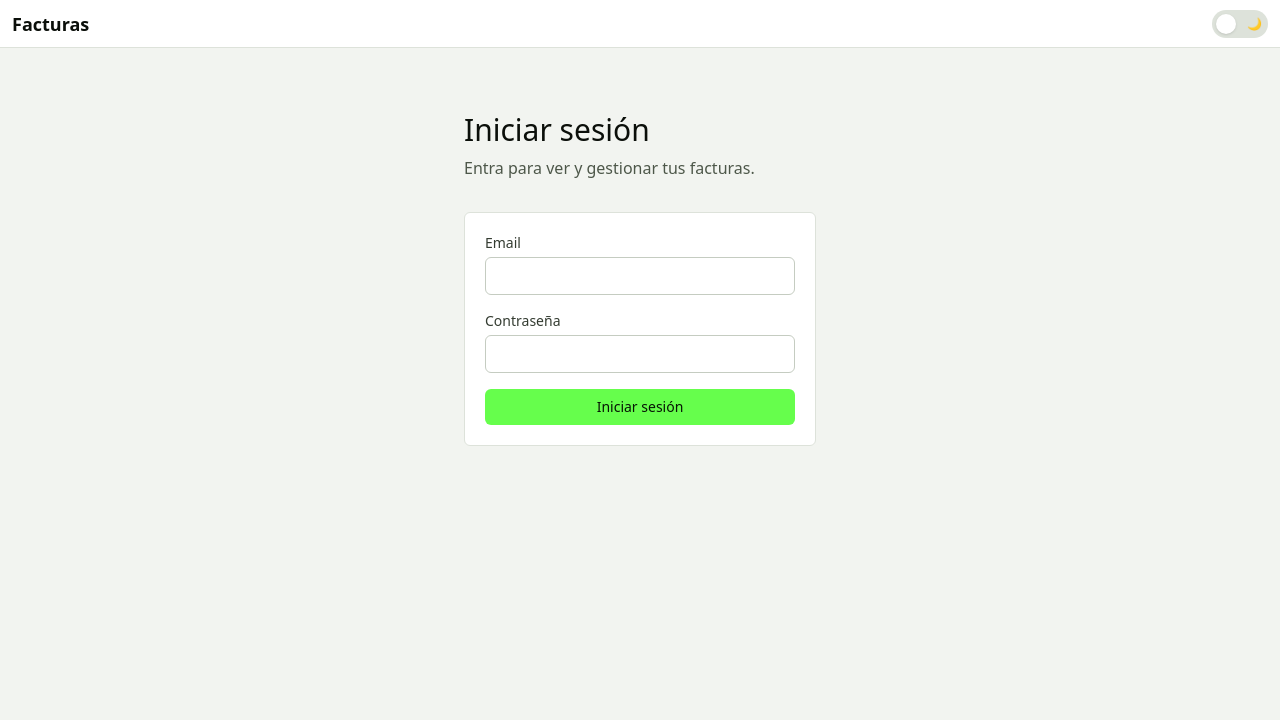
router: sesión › iniciar sesión vuelve a la ruta que se pedía
Expected: the heading "Iniciar sesión" is shown, [464,109,650,150]
Step 1. Type "ana@example.com" into the field labelled "Email" → point(640, 276), box [485,257,795,295]
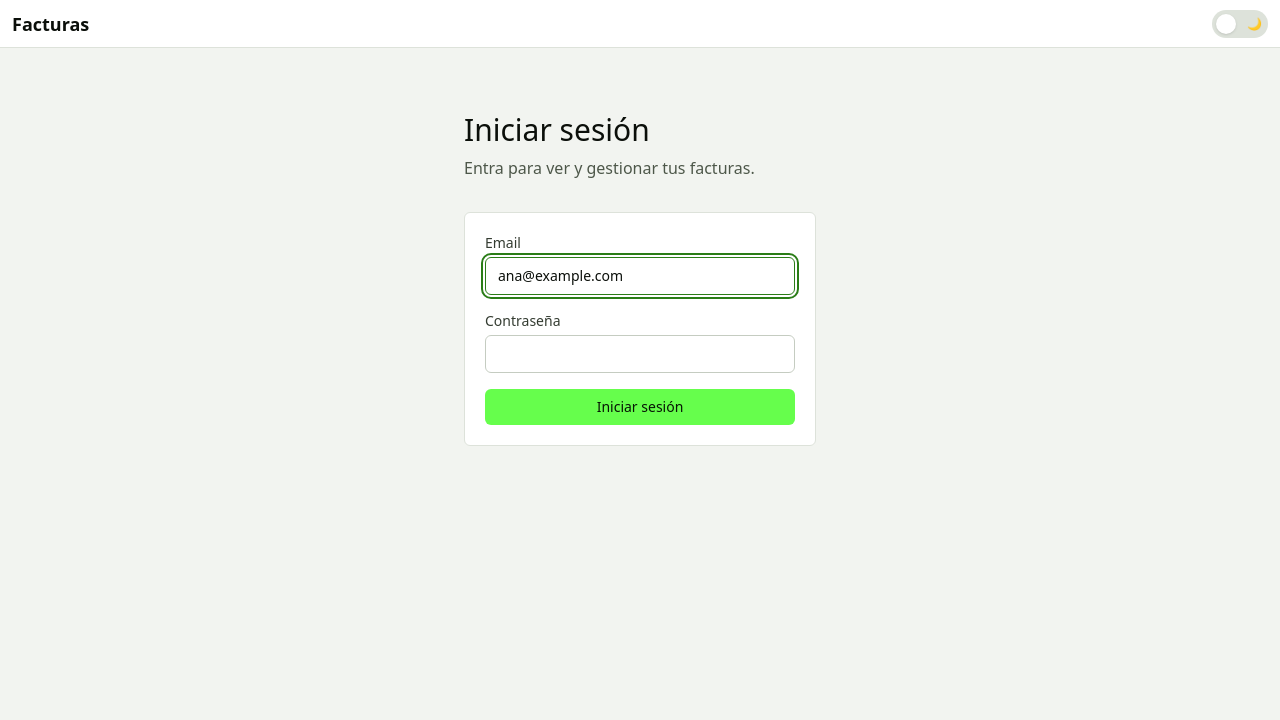
Step 2. Type "correct horse battery" into the password field labelled "Contraseña" → point(640, 354), box [485,335,795,373]
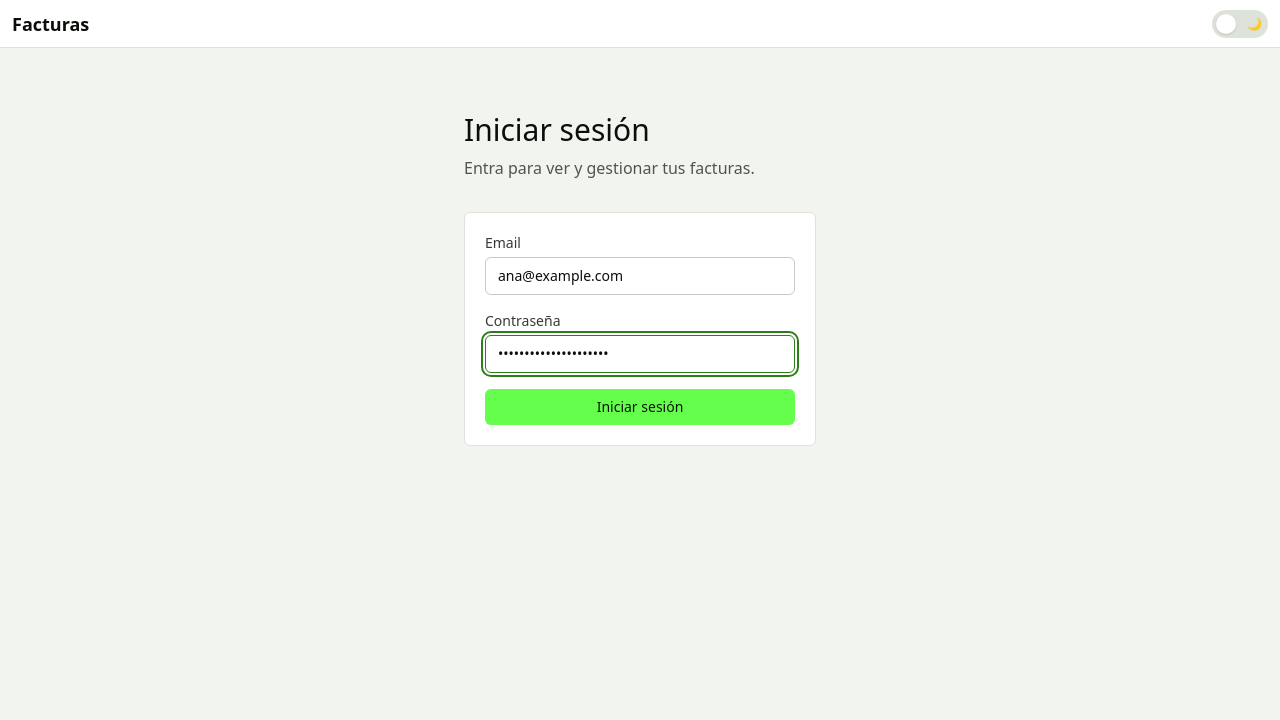
Step 3. Click the button "Iniciar sesión" → point(640, 407), box [485,389,795,425]
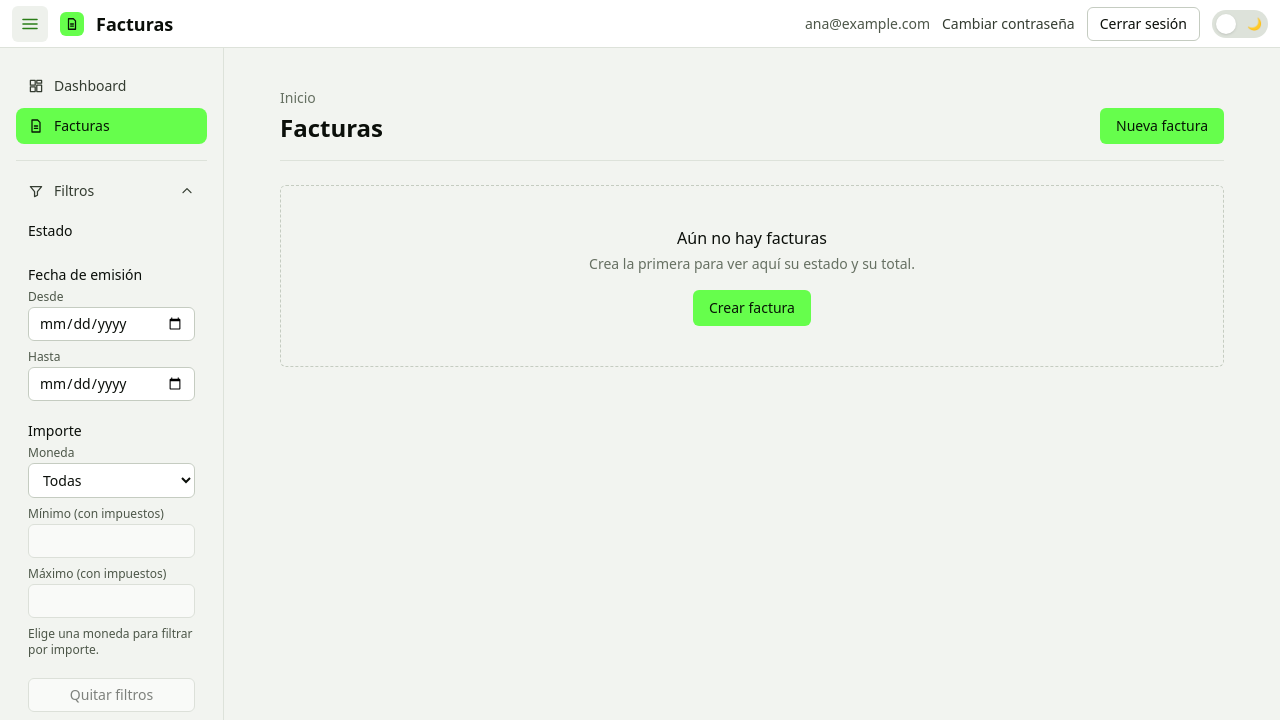
Expected: the heading "Facturas" is shown, [280,112,383,144]
